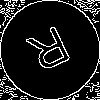R: (25, 25, 78, 82)
